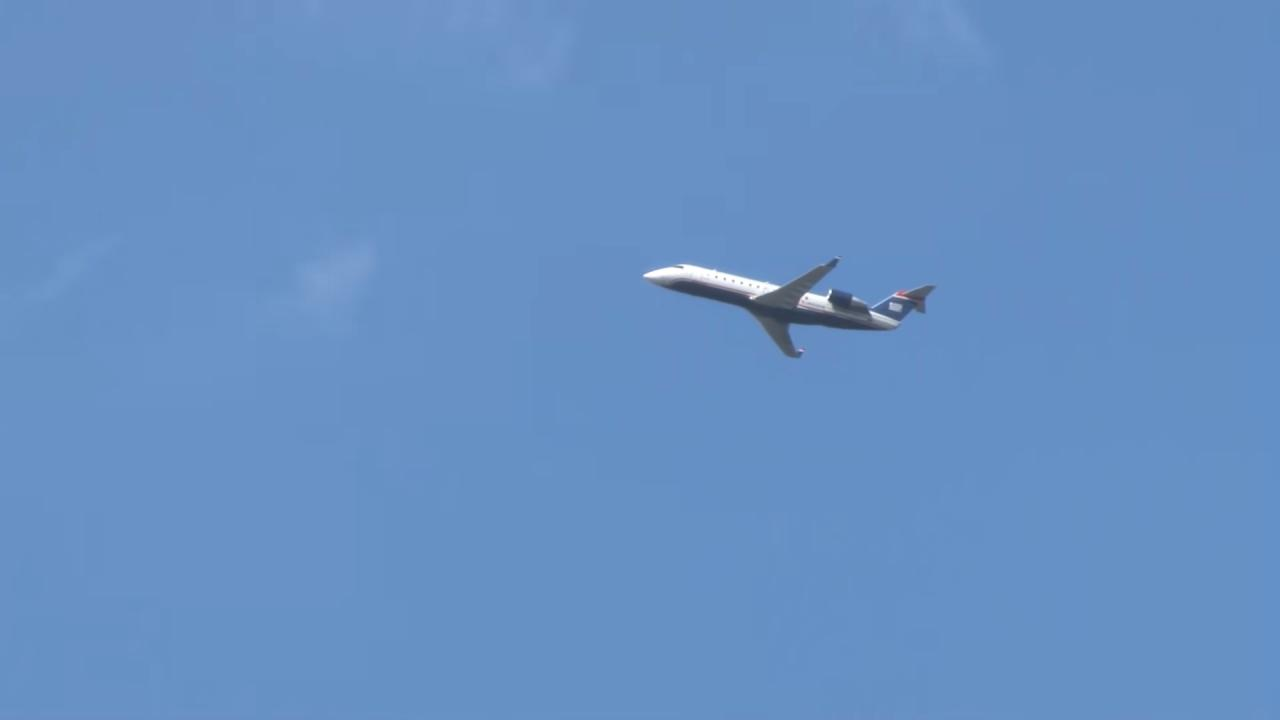Airplane: (632, 248, 950, 369)
